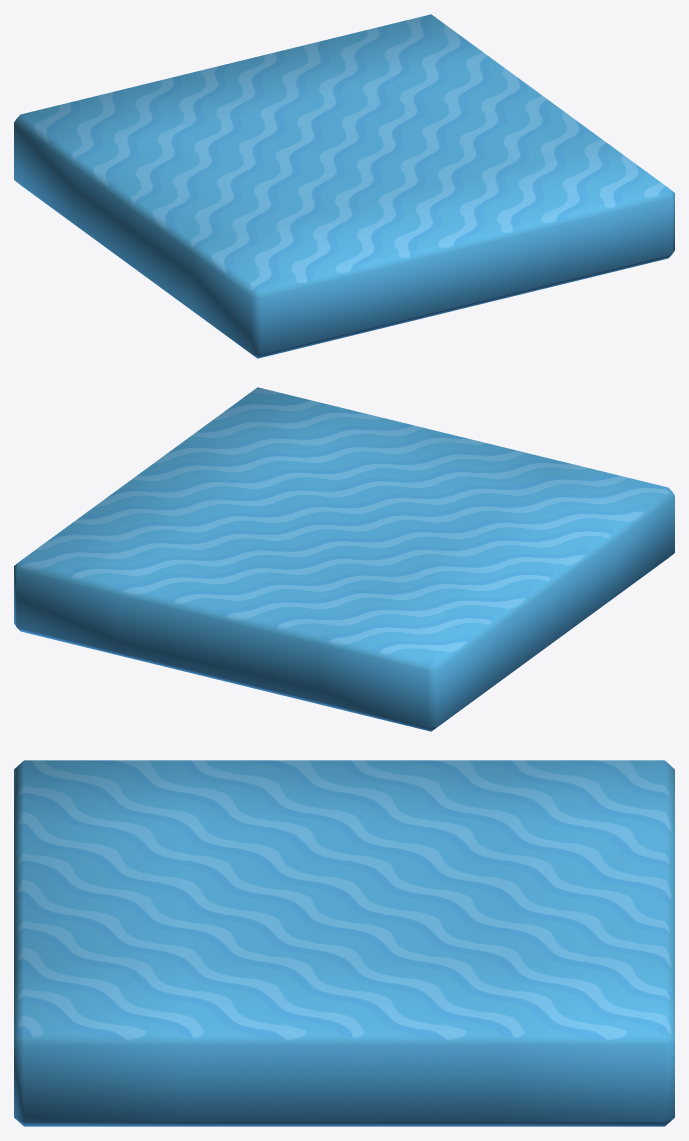
Rendered from water_top_8x8_medium.fbx.
3 views of the same model, one above another, from view 1: azimuth 30°, elevation 25°; view 2: azimuth 150°, elevation 25°; view 3: azimuth 270°, elevation 25° (orthographic). The views are drawn at different scales.
Parts seen in each view (by area): view 1: water_top_8x8_medium; view 2: water_top_8x8_medium; view 3: water_top_8x8_medium.
Boxes of the visible parts, box(x1,y1,x2,y2) form: water_top_8x8_medium: box(14, 14, 674, 358); water_top_8x8_medium: box(14, 387, 674, 731); water_top_8x8_medium: box(14, 760, 674, 1126).
Bounding box in the file's own units: 825 × 131 × 825.
